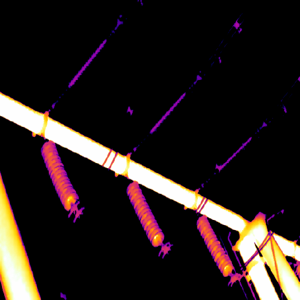insulator: (38, 137, 79, 211), (125, 180, 165, 246), (196, 212, 233, 276), (67, 36, 106, 87), (150, 92, 186, 131), (217, 134, 253, 168)
